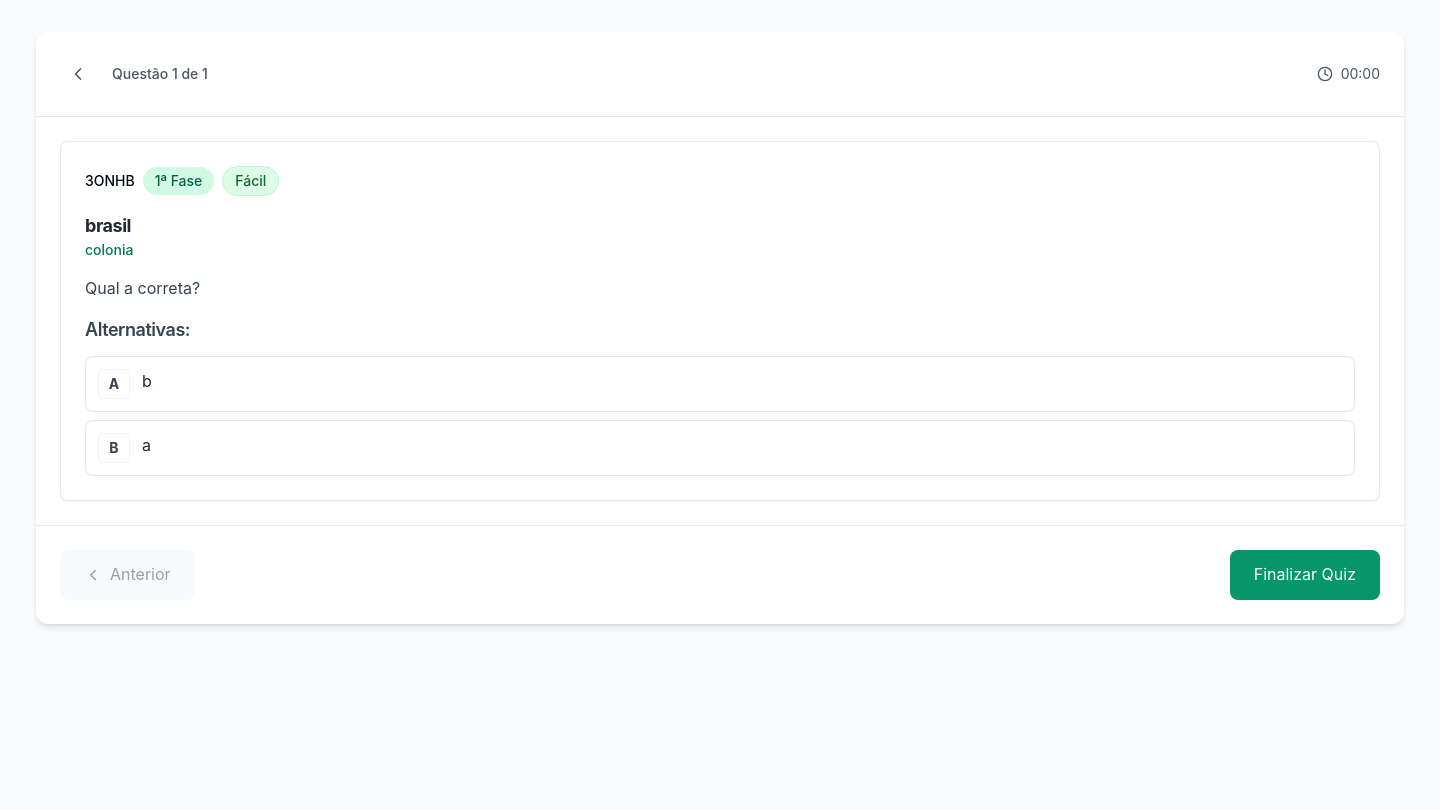
Test case: QuizPlayer › navega entre questões e finaliza quiz
Click the button "Finalizar Quiz".
click(1305, 575)  # box 1230,550 -> 1380,600
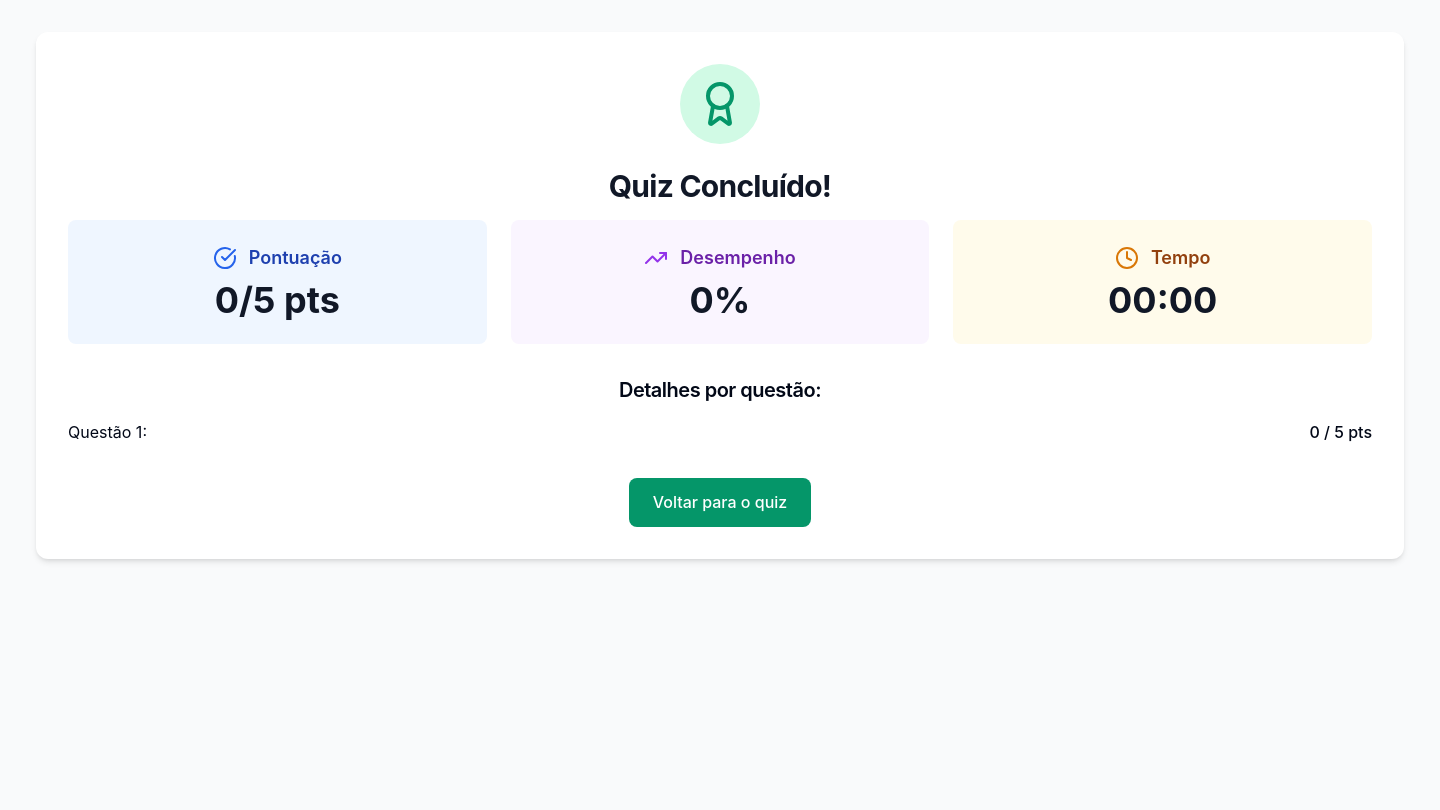
Expected: the heading "Quiz Concluído!" is shown, 609,168 -> 831,204
